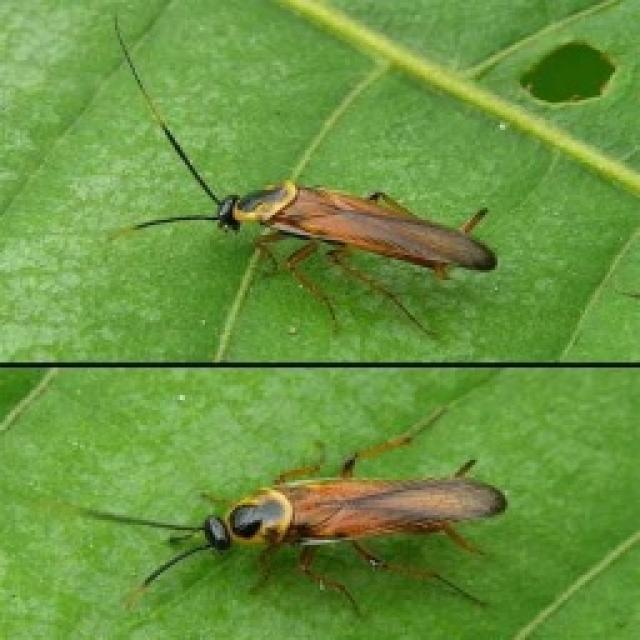cockroach: (179, 142, 558, 312), (168, 434, 509, 600)
